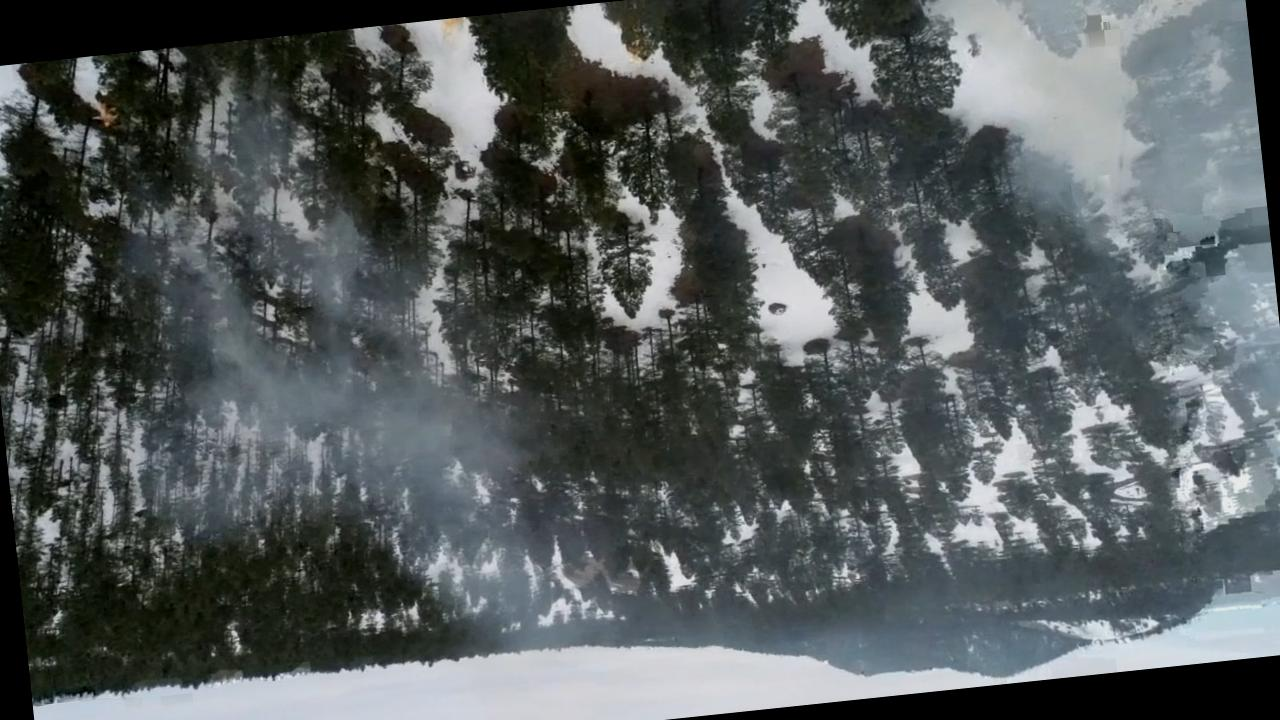smoke: (139, 122, 558, 675)
